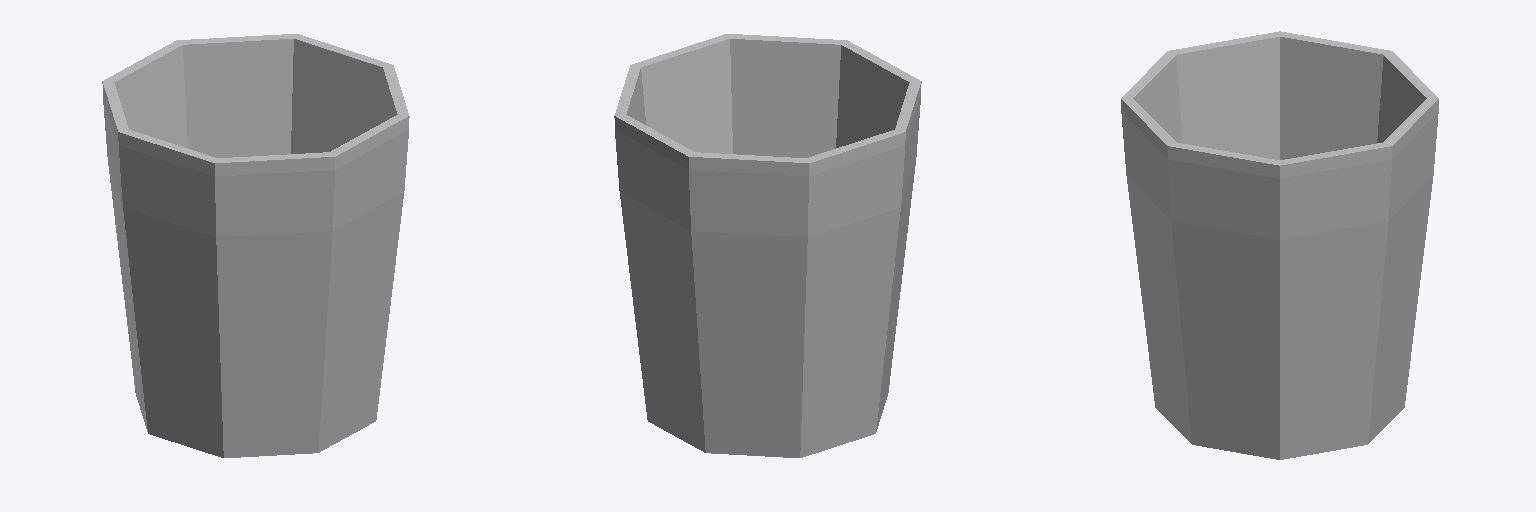
Rendered from glass.obj.
3 views of the same model, side by side, from view 1: azimuth 30°, elevation 25°; view 2: azimuth 150°, elevation 25°; view 3: azimuth 270°, elevation 25° (orthographic).
Bounding box in the file's own units: 2.22 × 2.42 × 2.22.